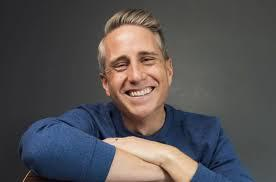Persons: (84, 5, 190, 130)
